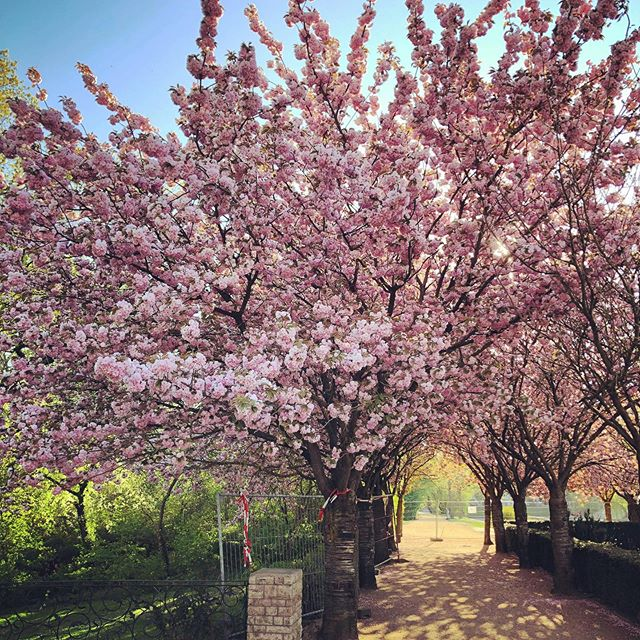flowers: (1, 1, 622, 487)
